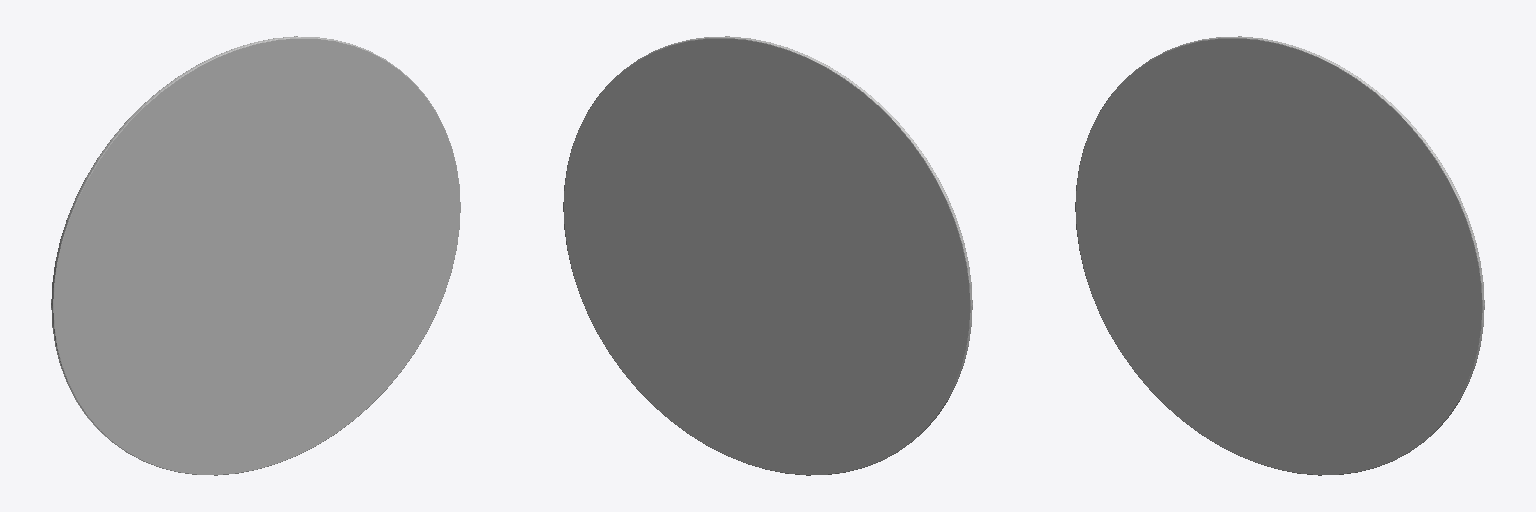
File: carpet.obj
3 renders of one model, left to right at view 1: azimuth 30°, elevation 25°; view 2: azimuth 150°, elevation 25°; view 3: azimuth 330°, elevation 25°, orthographic.
Visible parts, largest first — view 1: carpet; view 2: carpet; view 3: carpet.
Part boxes in pixels (x1,y1,x2,y2): carpet: (51,36,460,475); carpet: (563,36,972,475); carpet: (1075,36,1484,475).
Bounding box in the file's own units: 550 × 550 × 5.11.